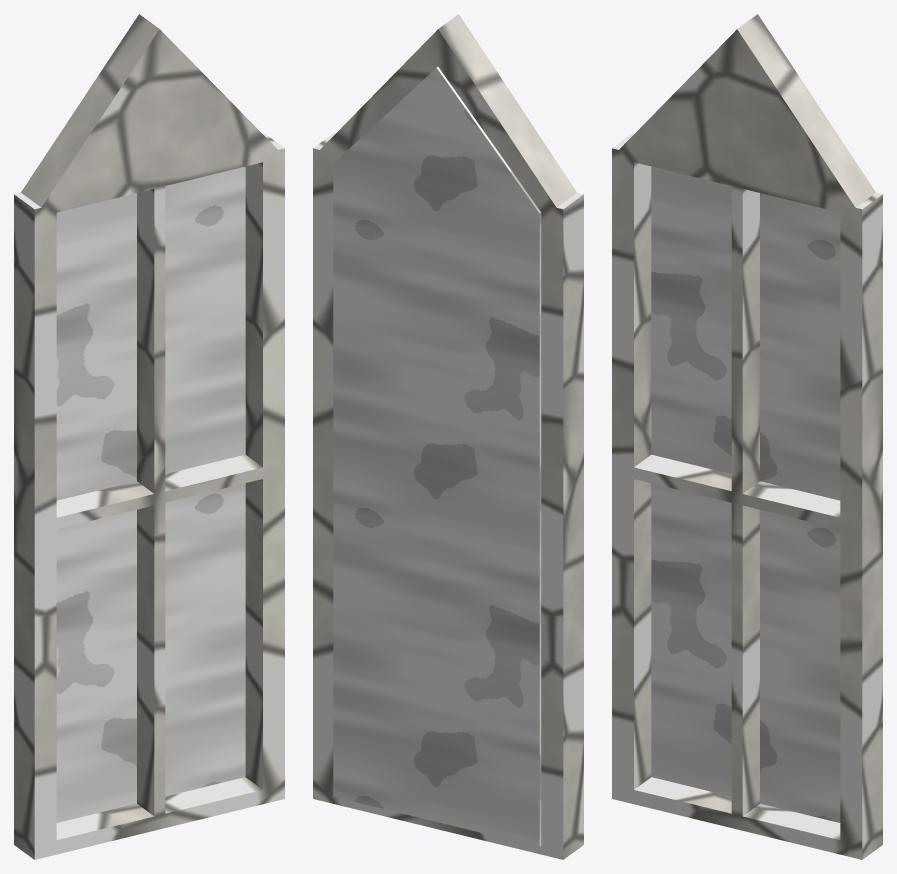
File: finestra_gotica.obj
3 renders of one model, left to right at view 1: azimuth 30°, elevation 25°; view 2: azimuth 150°, elevation 25°; view 3: azimuth 330°, elevation 25°, orthographic.
Visible parts, largest first — view 1: pietra_001, vetro_000; view 2: vetro_000, pietra_001; view 3: pietra_001, vetro_000.
Part boxes in pixels (<box>): pietra_001: <box>14,14,284,859</box>; vetro_000: <box>56,166,245,822</box>; vetro_000: <box>333,67,541,846</box>; pietra_001: <box>313,14,583,859</box>; pietra_001: <box>612,14,882,859</box>; vetro_000: <box>651,166,840,822</box>.
Size of the model in its own units: 0.91 by 2.78 by 0.14.
Materials: 2 (2 with a texture image).
